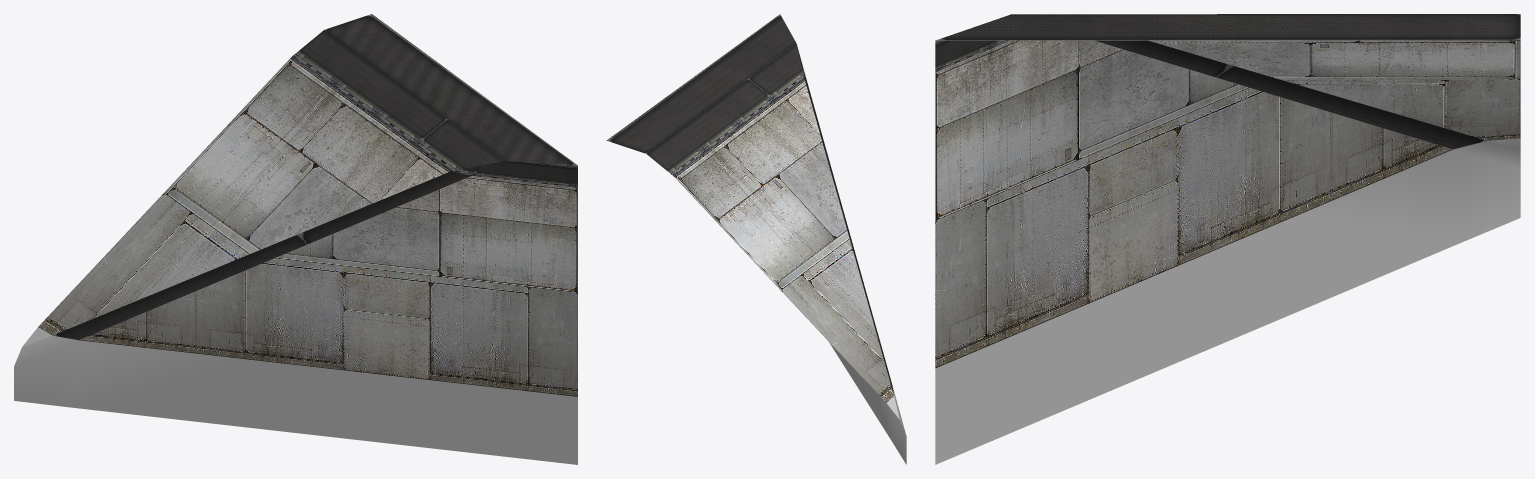
The model's file is Roof_A_Big4mts07.fbx.
The picture shows the model from 3 angles, left to right: view 1: azimuth 30°, elevation 25°; view 2: azimuth 150°, elevation 25°; view 3: azimuth 270°, elevation 25°; orthographic projection. The views are drawn at different scales.
Visible parts, largest first — view 1: Roof_A_Big4mts07; view 2: Roof_A_Big4mts07; view 3: Roof_A_Big4mts07.
Boxes of the visible parts, left/top/right/bottom form: Roof_A_Big4mts07: left=14, top=14, right=577, bottom=464; Roof_A_Big4mts07: left=607, top=14, right=906, bottom=464; Roof_A_Big4mts07: left=935, top=14, right=1520, bottom=464.
Bounding box in the file's own units: 500 × 400 × 500.
